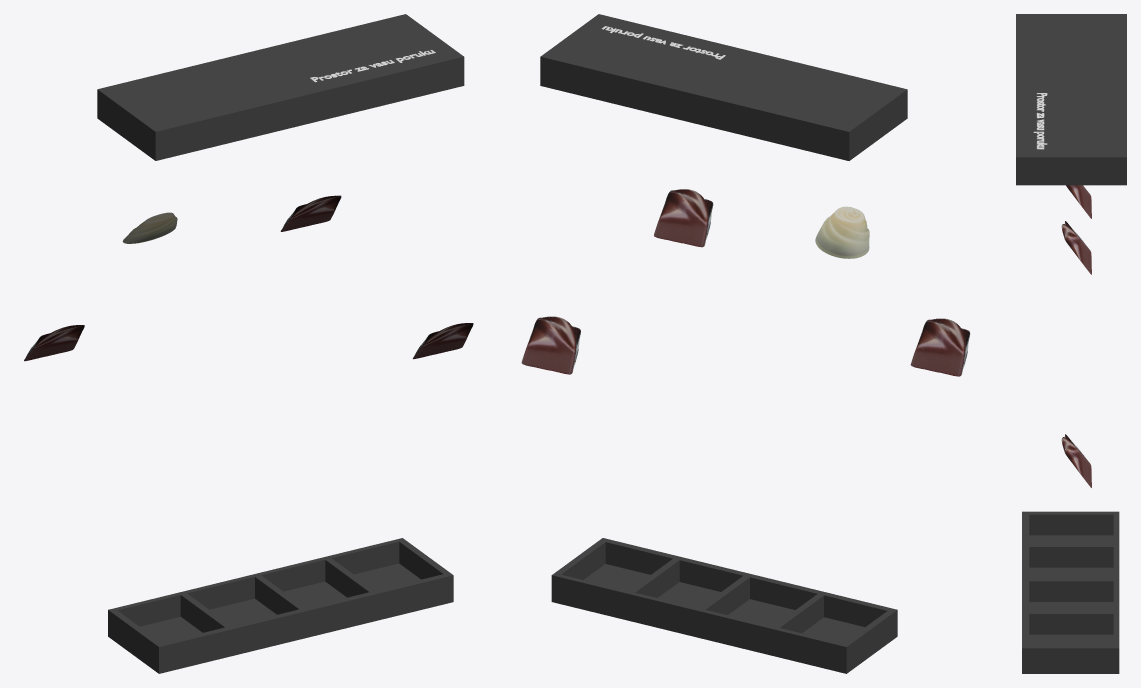
The model's file is aurora.54957802.glb.
3 renders of one model, left to right at view 1: azimuth 30°, elevation 25°; view 2: azimuth 150°, elevation 25°; view 3: azimuth 270°, elevation 25°, orthographic. The views are drawn at different scales.
Parts seen in each view (by area): view 1: Cube.001, Cube, Plane.001, Plane.003, Plane, Plane.002; view 2: Cube.001, Cube, Plane, Plane.003, Plane.001, Plane.002; view 3: Cube.001, Cube, Plane, Plane.001, Text, Plane.003.
Part boxes in pixels (<box>): Cube.001: <box>97,14,464,160</box>; Cube: <box>108,538,453,673</box>; Plane.001: <box>280,195,341,231</box>; Plane.003: <box>24,325,84,361</box>; Plane: <box>412,323,473,359</box>; Plane.002: <box>122,212,177,243</box>; Cube.001: <box>540,14,907,160</box>; Cube: <box>551,538,897,673</box>; Plane: <box>521,316,580,374</box>; Plane.003: <box>910,318,970,376</box>; Plane.001: <box>654,189,713,247</box>; Plane.002: <box>815,206,869,258</box>; Cube.001: <box>1016,14,1126,185</box>; Cube: <box>1022,511,1119,673</box>; Plane: <box>1061,434,1091,487</box>; Plane.001: <box>1061,221,1091,274</box>; Text: <box>1033,93,1047,149</box>; Plane.003: <box>1066,185,1091,218</box>.
Bounding box in the file's own units: 35.26 × 40.78 × 7.88.
3 materials, 2 textured.
